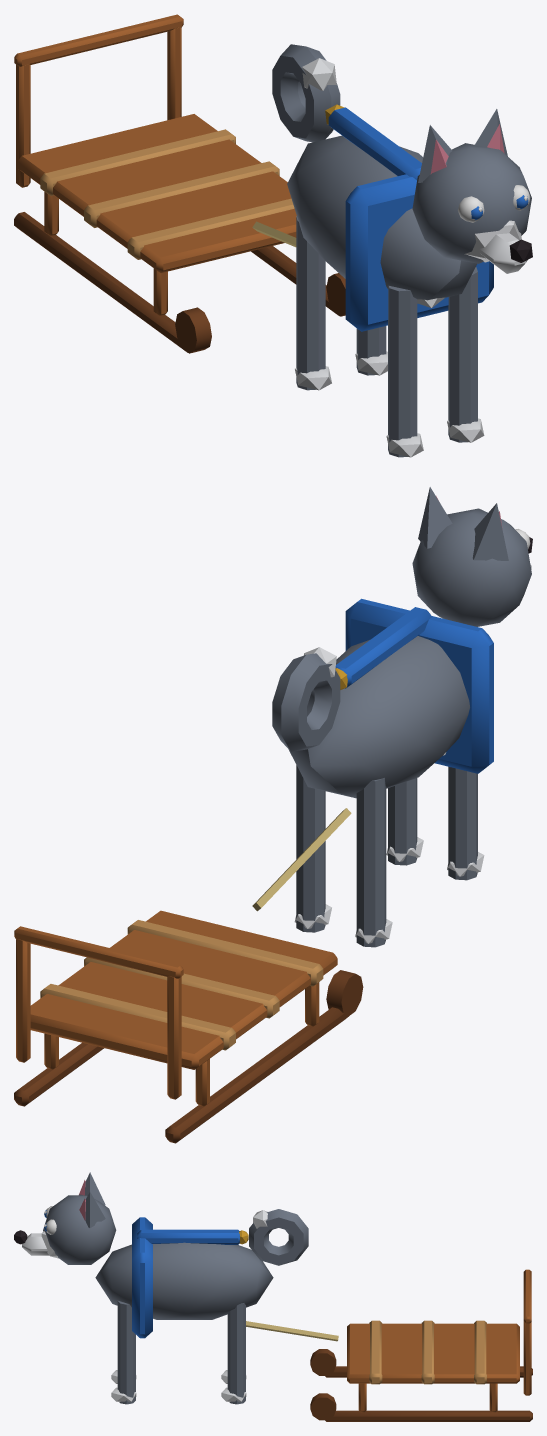
File: comp_husky.glb
The picture shows the model from 3 angles, top to bottom: view 1: azimuth 30°, elevation 25°; view 2: azimuth 150°, elevation 25°; view 3: azimuth 270°, elevation 25°; orthographic projection. The views are drawn at different scales.
Visible parts, largest first — view 1: sled, body, head, leg_fl, tail, leg_fr, leg_bl, leg_br; view 2: sled, body, head, tail, leg_bl, leg_br, leg_fl, leg_fr; view 3: sled, body, head, tail, leg_br, leg_fr.
Boxes of the visible parts, box(x1,y1,x2,y2) form: sled: box(14, 14, 345, 353); body: box(287, 104, 493, 331); head: box(412, 109, 532, 273); leg_fl: box(386, 286, 423, 457); tail: box(272, 44, 340, 142); leg_fr: box(447, 267, 484, 442); leg_bl: box(295, 216, 331, 390); leg_br: box(355, 326, 387, 375); sled: box(14, 808, 363, 1143); body: box(289, 598, 493, 798); head: box(412, 487, 532, 626); tail: box(272, 647, 340, 751); leg_bl: box(355, 778, 392, 947); leg_br: box(294, 765, 331, 932); leg_fl: box(447, 766, 484, 880); leg_fr: box(386, 778, 423, 865); sled: box(246, 1269, 532, 1421); body: box(95, 1217, 273, 1338); head: box(14, 1172, 116, 1264); tail: box(249, 1209, 308, 1265); leg_br: box(221, 1303, 246, 1404); leg_fr: box(111, 1301, 136, 1404).
Size of the model in its own units: 0.5 by 0.9136 by 1.98.
